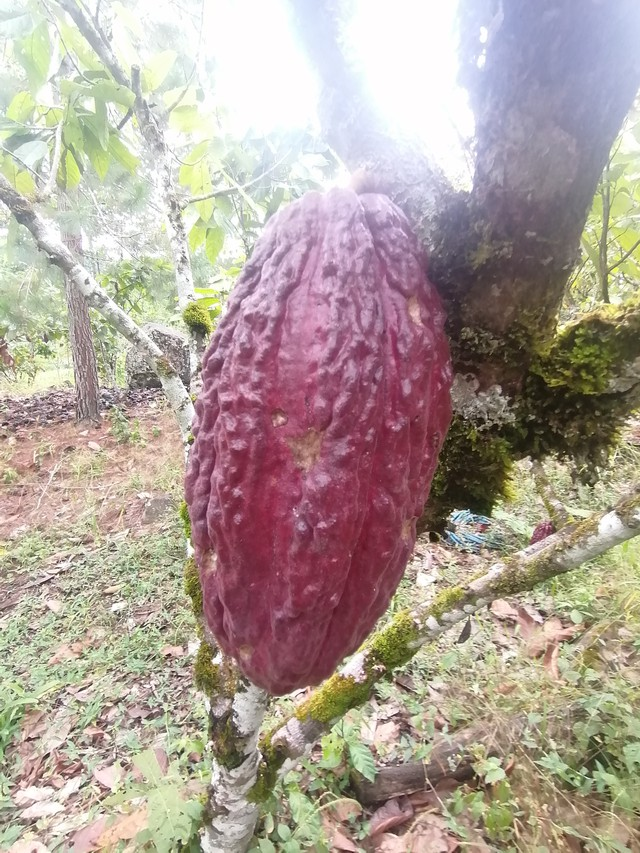Health: (170, 177, 472, 705)
